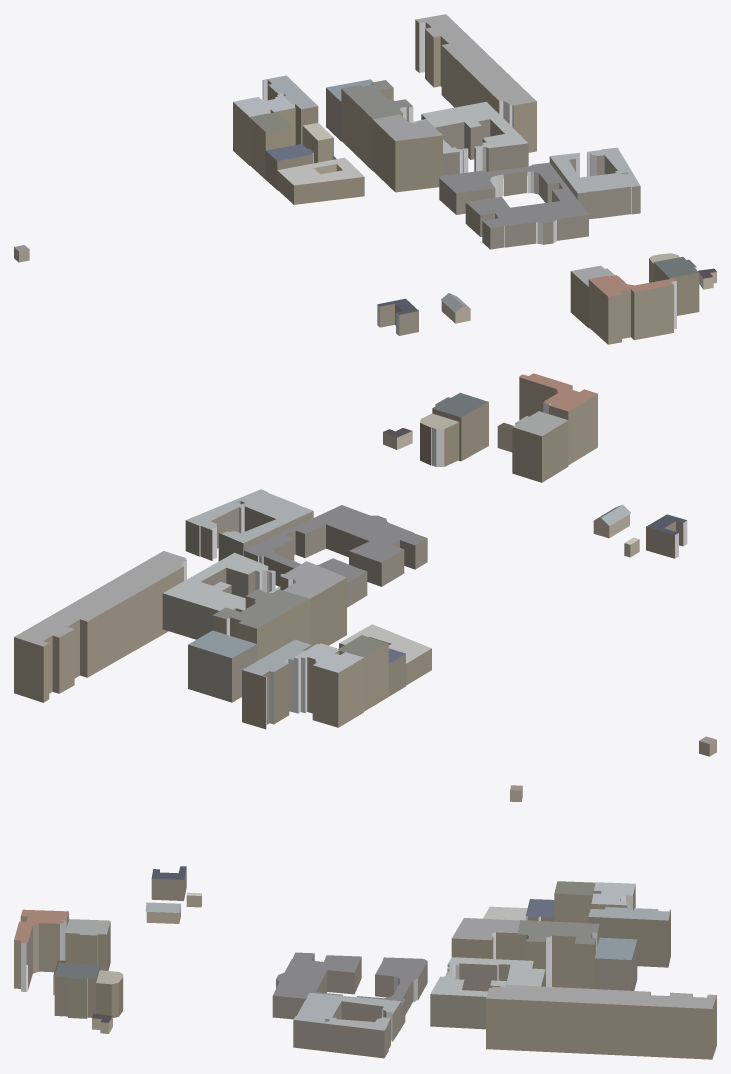
The picture shows the model from 3 angles, top to bottom: view 1: azimuth 30°, elevation 25°; view 2: azimuth 150°, elevation 25°; view 3: azimuth 270°, elevation 25°; orthographic projection. The views are drawn at different scales.
Visible parts, largest first — view 1: tuile; view 2: tuile; view 3: tuile.
Part boxes in pixels (x1=…): tuile: x1=14, y1=14, x2=716, y2=344; tuile: x1=14, y1=373, x2=716, y2=756; tuile: x1=14, y1=785, x2=716, y2=1059.
Size of the model in its own units: 259 by 28.15 by 291.
